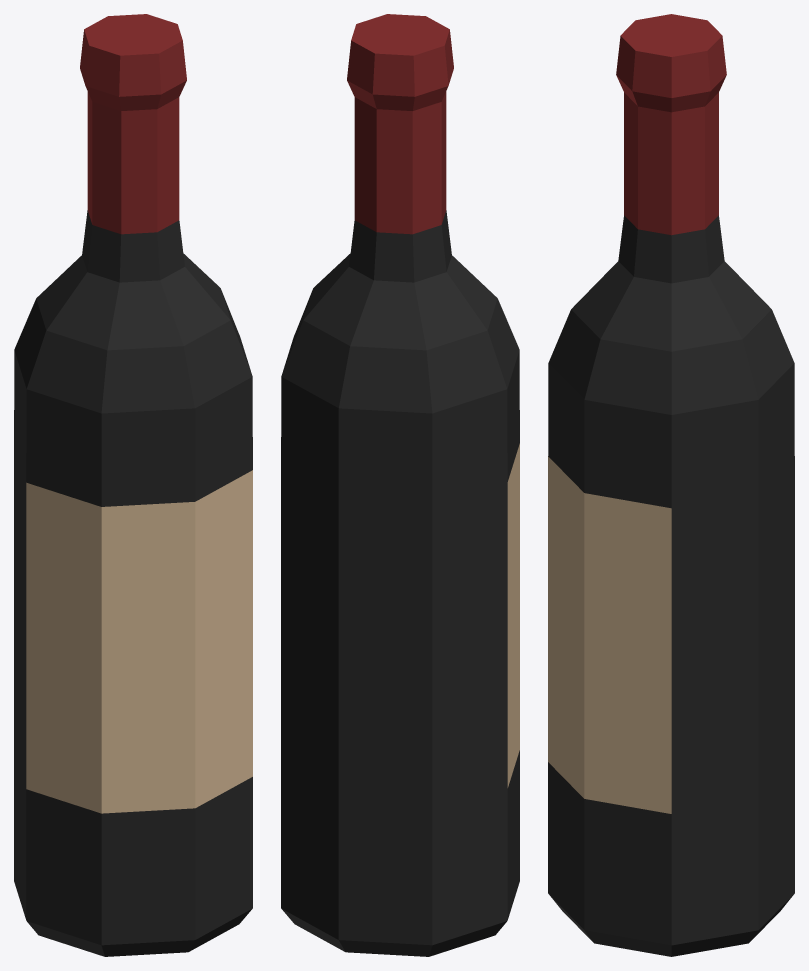
File: food_wine-bottle-red.fbx
3 views of the same model, side by side, from view 1: azimuth 30°, elevation 25°; view 2: azimuth 150°, elevation 25°; view 3: azimuth 270°, elevation 25° (orthographic).
Parts seen in each view (by area): view 1: food_wine_bottle_red; view 2: food_wine_bottle_red; view 3: food_wine_bottle_red.
Boxes of the visible parts, bbox=[...] form: food_wine_bottle_red: bbox=[14, 14, 252, 956]; food_wine_bottle_red: bbox=[281, 14, 519, 956]; food_wine_bottle_red: bbox=[548, 14, 794, 956].
Size of the model in its own units: 51.09 by 200 by 51.09.
